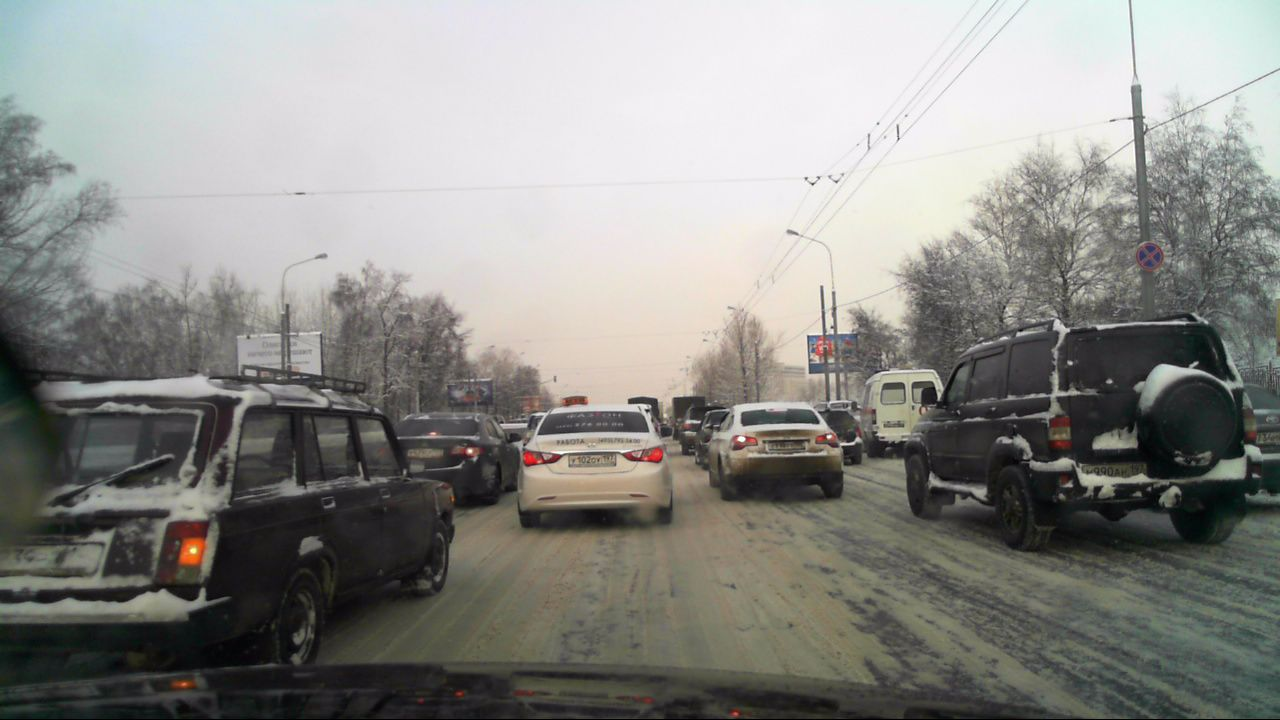No Parking: (1135, 236, 1165, 268)
